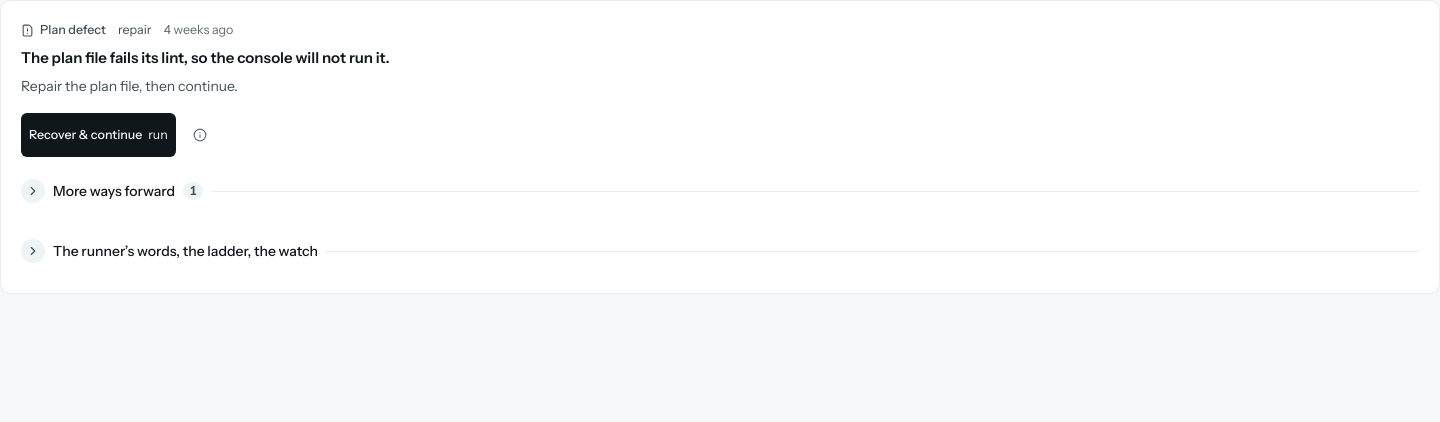
Test: the card names the family, one sentence, and the ONE recommended recovery › plan: the recommended verb is drawn first and alone — every other way forward is one press behind it
Expected: the button "Repair the plan with a new agent" is not shown
Click the text "More ways forward": (114, 191) [53,181,175,202]
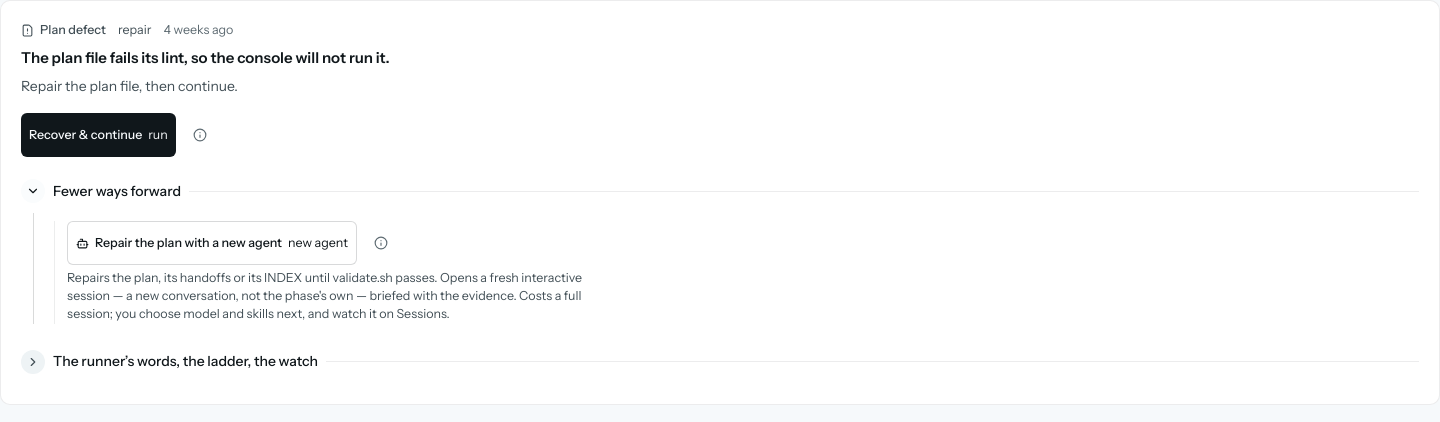
Now the button "Repair the plan with a new agent" is shown, box [67,221,357,265]
